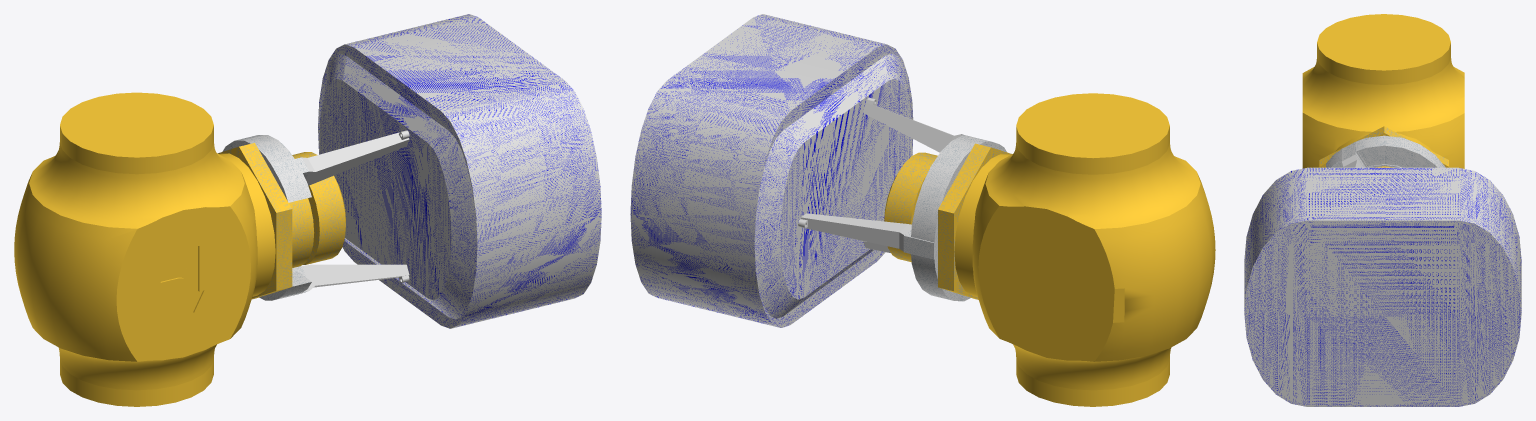
Rendered from v3v-fusion.dae.
The picture shows the model from 3 angles, left to right: view 1: azimuth 30°, elevation 25°; view 2: azimuth 150°, elevation 25°; view 3: azimuth 270°, elevation 25°; orthographic projection. The views are drawn at different scales.
Visible parts, largest first — view 1: group_1 (×2), Différence (×2), group_0 (×3), group_6, group_7, group_2, group_4; view 2: group_1 (×2), Différence (×2), group_0 (×2), group_6, group_5, group_2, group_7; view 3: group_1 (×2), Différence, group_6 (×2), group_0.
Part boxes in pixels (x1,y1,x2,y2): group_1 (×2): (318, 14, 601, 328); Différence (×2): (14, 92, 257, 406); group_0 (×3): (218, 143, 345, 299); group_6: (222, 135, 311, 300); group_7: (302, 130, 409, 185); group_2: (219, 153, 275, 296); group_4: (303, 264, 409, 290); group_1 (×2): (630, 14, 913, 327); Différence (×2): (972, 93, 1215, 406); group_0 (×2): (884, 143, 1011, 299); group_6: (903, 134, 1006, 301); group_5: (798, 213, 911, 251); group_2: (954, 154, 1010, 297); group_7: (863, 97, 962, 152); group_1 (×2): (1244, 167, 1521, 406); Différence: (1302, 14, 1464, 168); group_6 (×2): (1326, 135, 1445, 167); group_0: (1319, 126, 1448, 167).
Size of the model in its own units: 122 by 68.47 by 59.06.
